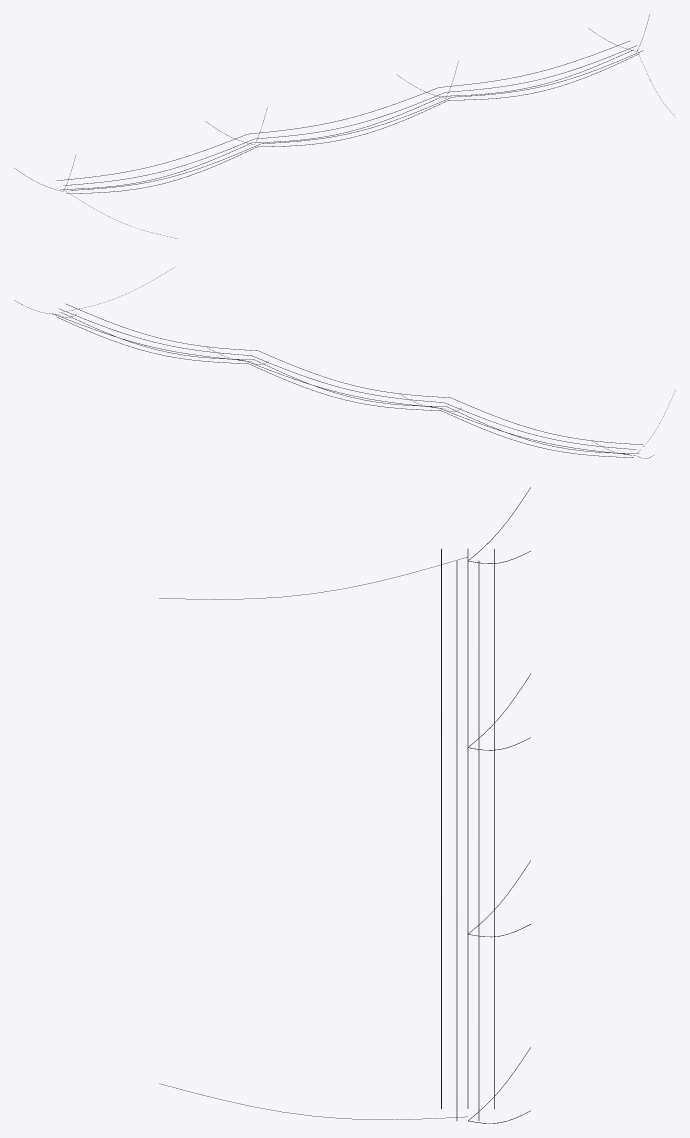
Rendered from wires.glb.
3 renders of one model, top to bottom at view 1: azimuth 30°, elevation 25°; view 2: azimuth 150°, elevation 25°; view 3: azimuth 270°, elevation 25°, orthographic. The views are drawn at different scales.
Parts seen in each view (by area): view 1: wires_0; view 2: wires_0; view 3: wires_0.
Part boxes in pixels (left/top/right/bottom): wires_0: left=14, top=14, right=675, bottom=238; wires_0: left=14, top=267, right=675, bottom=458; wires_0: left=159, top=487, right=530, bottom=1123.
Size of the model in its own units: 66.52 by 3.46 by 16.86.
1 material, 1 textured.
